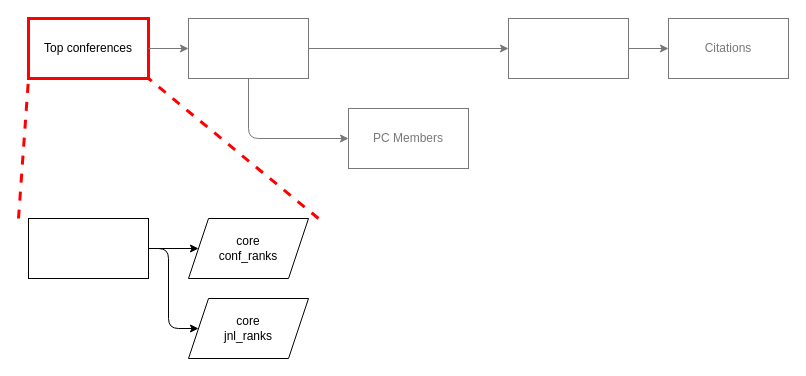
Some shapes in this 806 by 376 pixel diagram are drawn without their labels. The shapes that lost their labels are listed below. From the top down, each one's box as (x1, y1, x2, y2) in pixels, then its label:
(188, 18, 308, 78): Proceedings
(508, 18, 628, 78): Articles
(28, 218, 148, 278): core_scraper extractor.py
